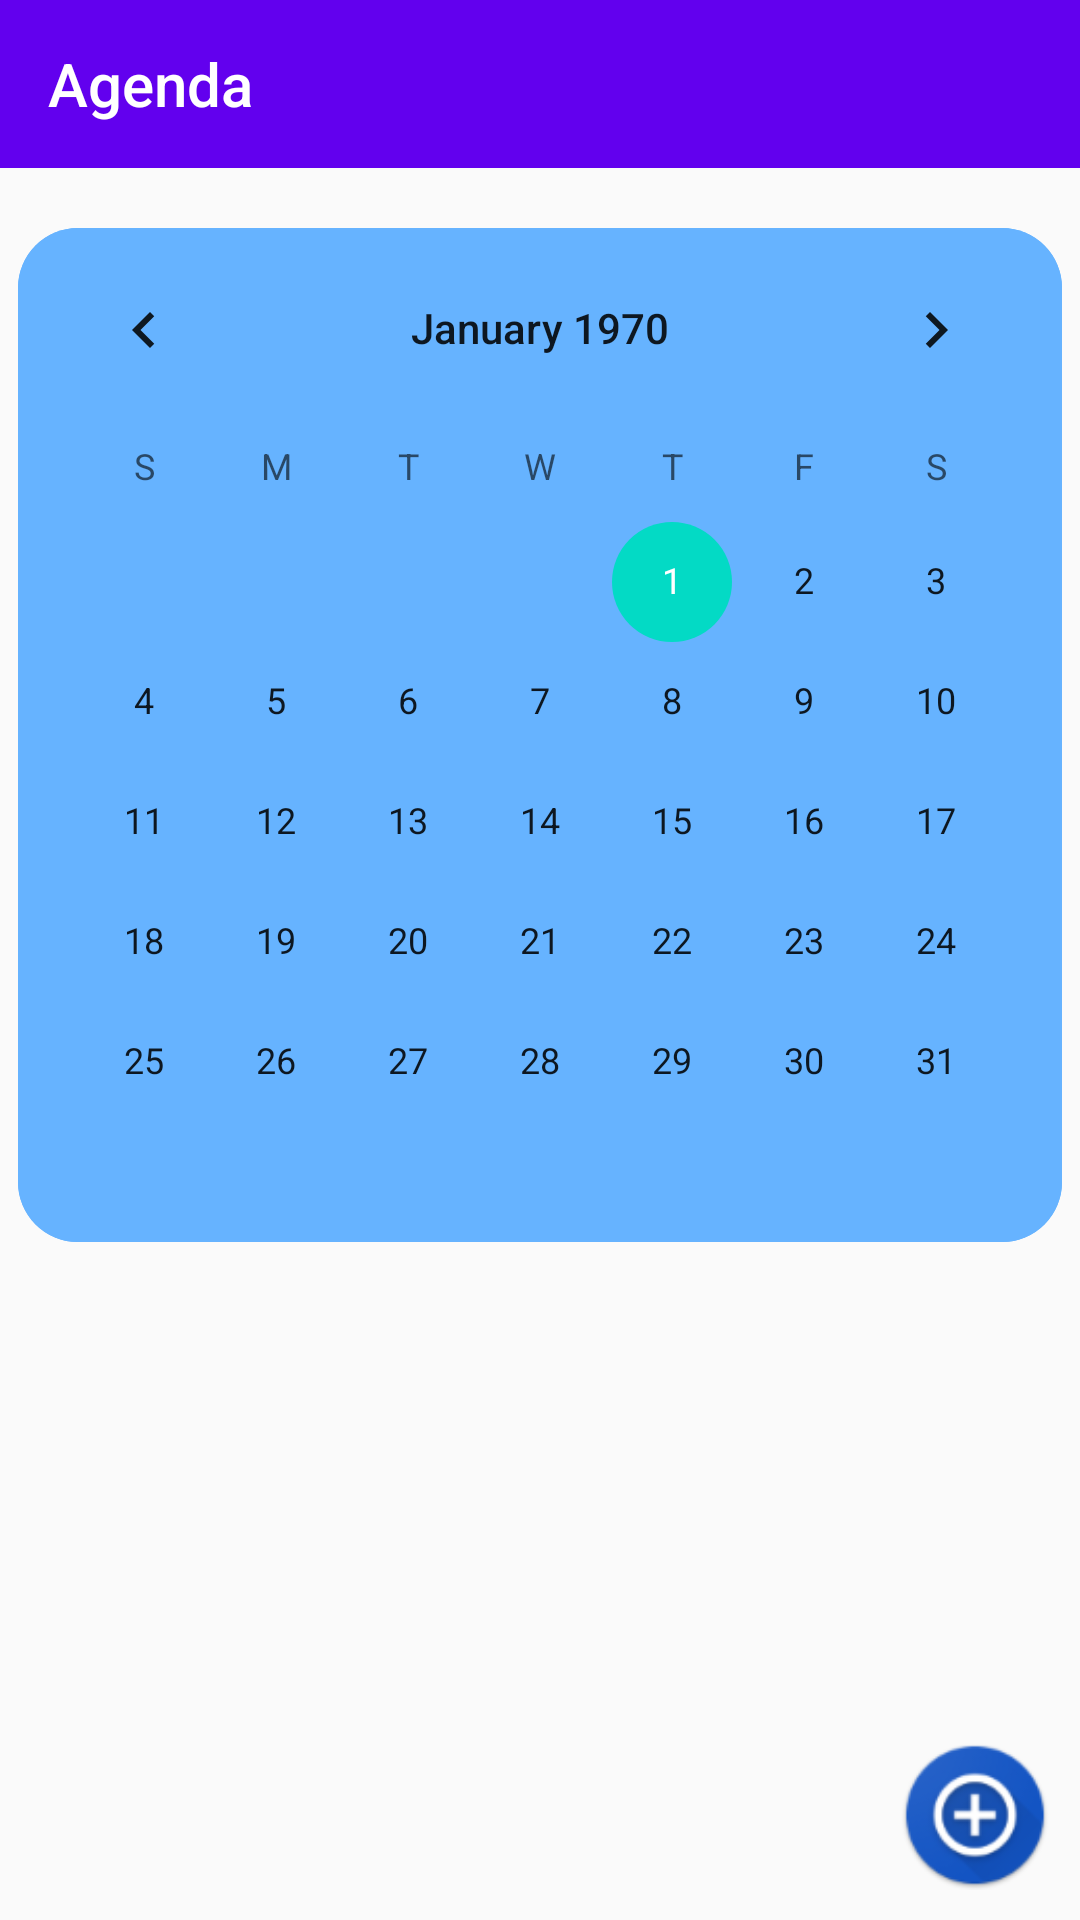

Icon click points for this 1080 x 1920 phone screenshot, format point (x, y):
add event: point (975, 1816)
